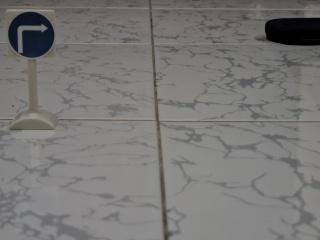right: (4, 3, 63, 69)
